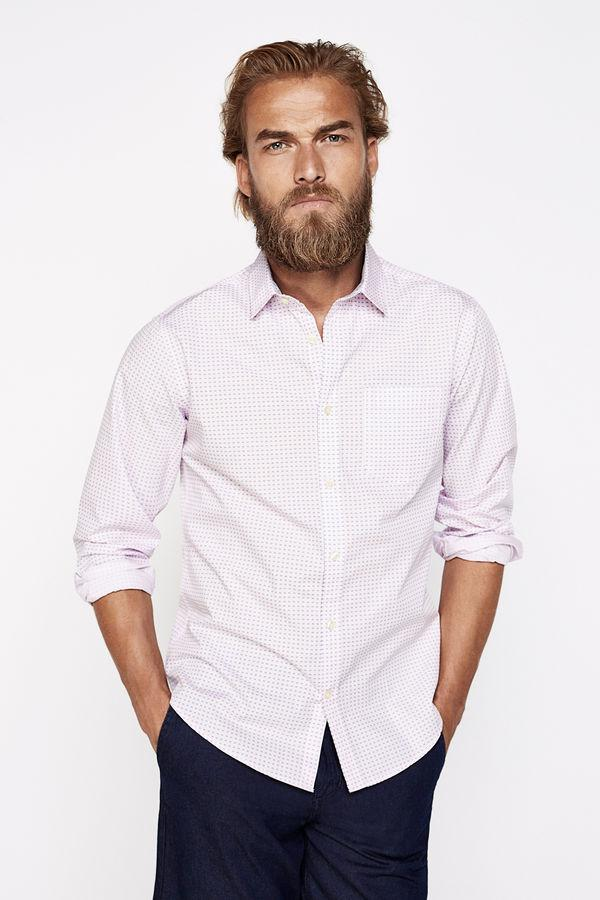teeshirt: (96, 229, 522, 785)
